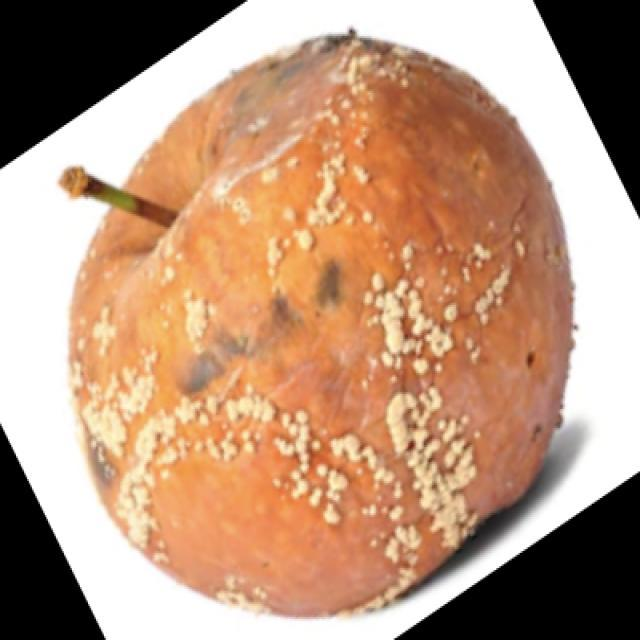Rotten: (90, 37, 568, 608)
